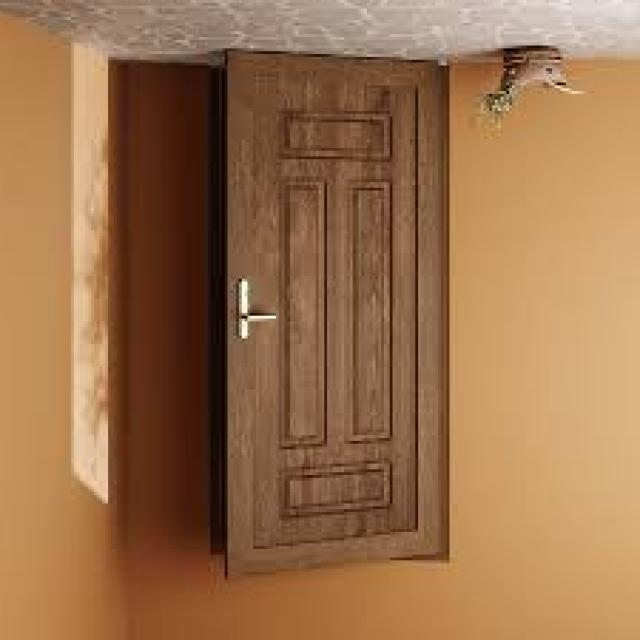door: (220, 49, 451, 582)
